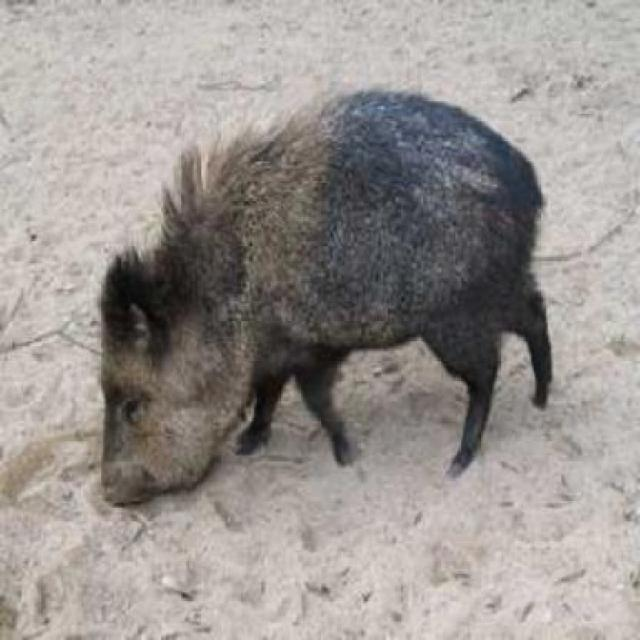pig: (17, 89, 579, 498)
